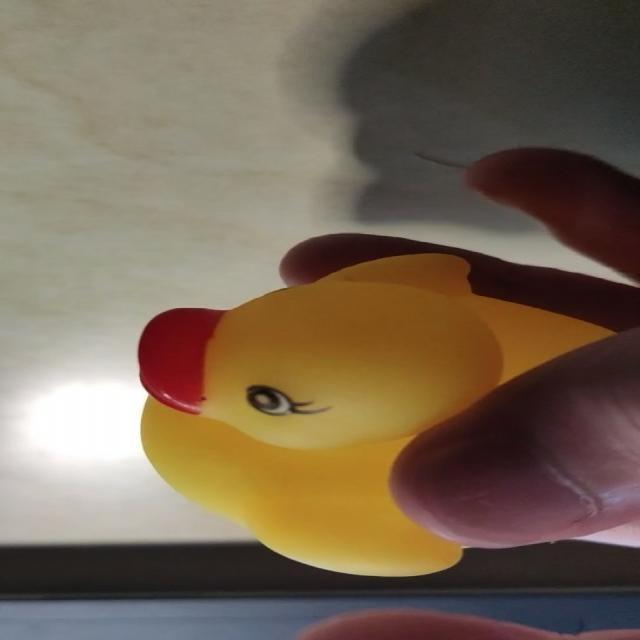rubber-duck: (140, 253, 608, 574)
